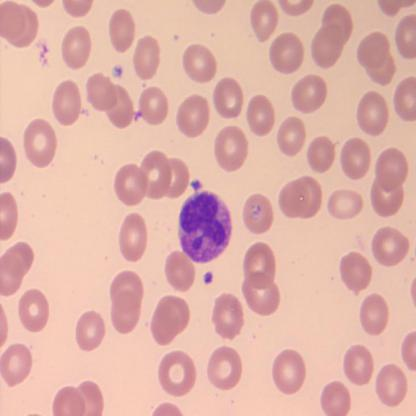Segmented neutrophil: (176, 186, 234, 264)
